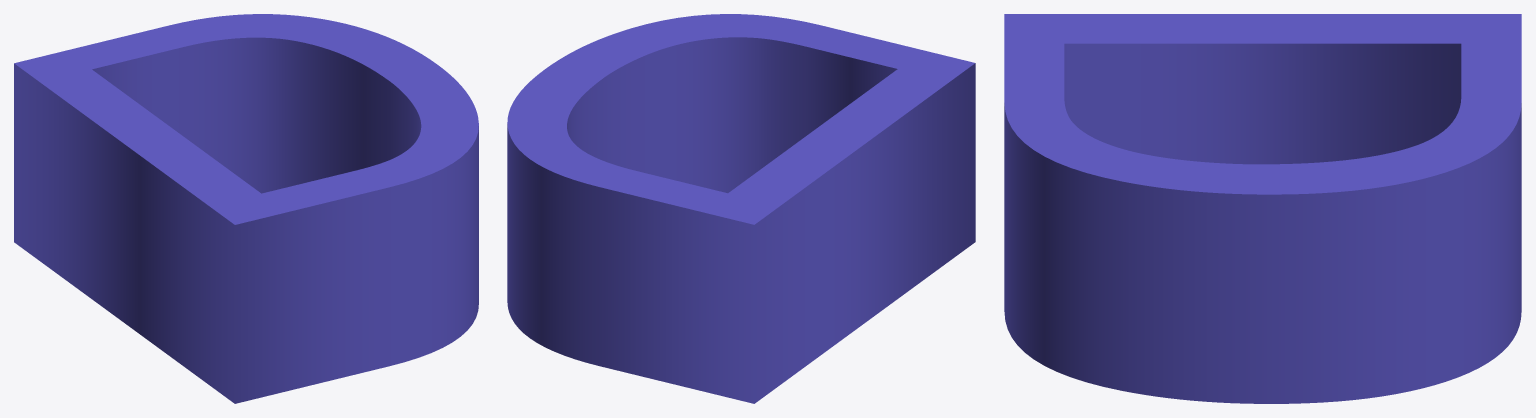
The picture shows the model from 3 angles, left to right: view 1: azimuth 30°, elevation 25°; view 2: azimuth 150°, elevation 25°; view 3: azimuth 270°, elevation 25°; orthographic projection. The views are drawn at different scales.
Parts seen in each view (by area): view 1: Text; view 2: Text; view 3: Text.
Boxes of the visible parts, x1,y1,x2,y2 form: Text: [14, 14, 478, 403]; Text: [507, 14, 975, 403]; Text: [1004, 14, 1521, 403].
Size of the model in its own units: 36.99 by 20 by 44.76.
